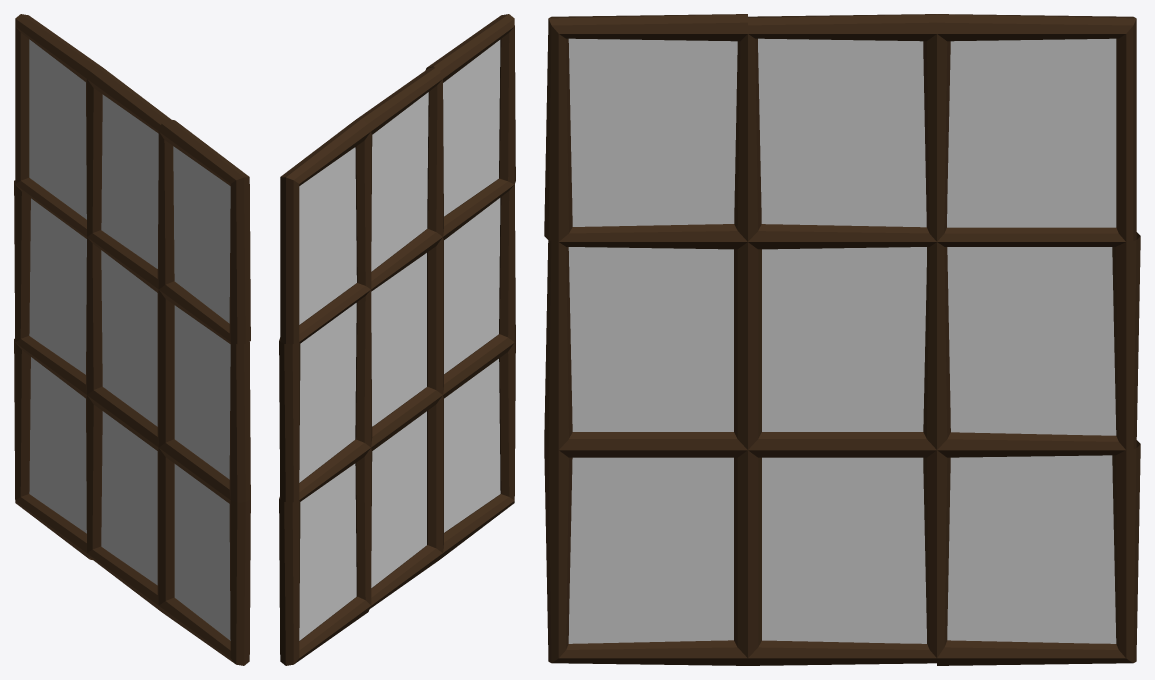
File: window.fbx
3 renders of one model, left to right at view 1: azimuth 30°, elevation 25°; view 2: azimuth 150°, elevation 25°; view 3: azimuth 270°, elevation 25°, orthographic. The views are drawn at different scales.
Visible parts, largest first — view 1: window_glass, window_frame; view 2: window_glass, window_frame; view 3: window_glass, window_frame.
Boxes of the visible parts, box(x1,y1,x2,y2) form: window_glass: box(29, 39, 230, 640); window_frame: box(14, 14, 250, 665); window_glass: box(299, 40, 500, 640); window_frame: box(279, 14, 515, 665); window_glass: box(568, 38, 1116, 643); window_frame: box(544, 14, 1140, 665).
Bounding box in the file's own units: 7 × 172 × 143.
